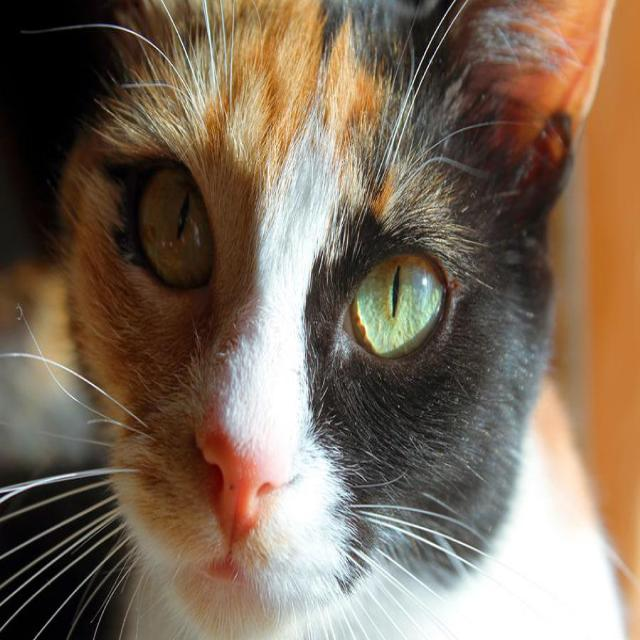Cat: (43, 4, 623, 636)
